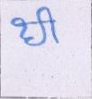i_matra: (40, 7, 61, 44)
